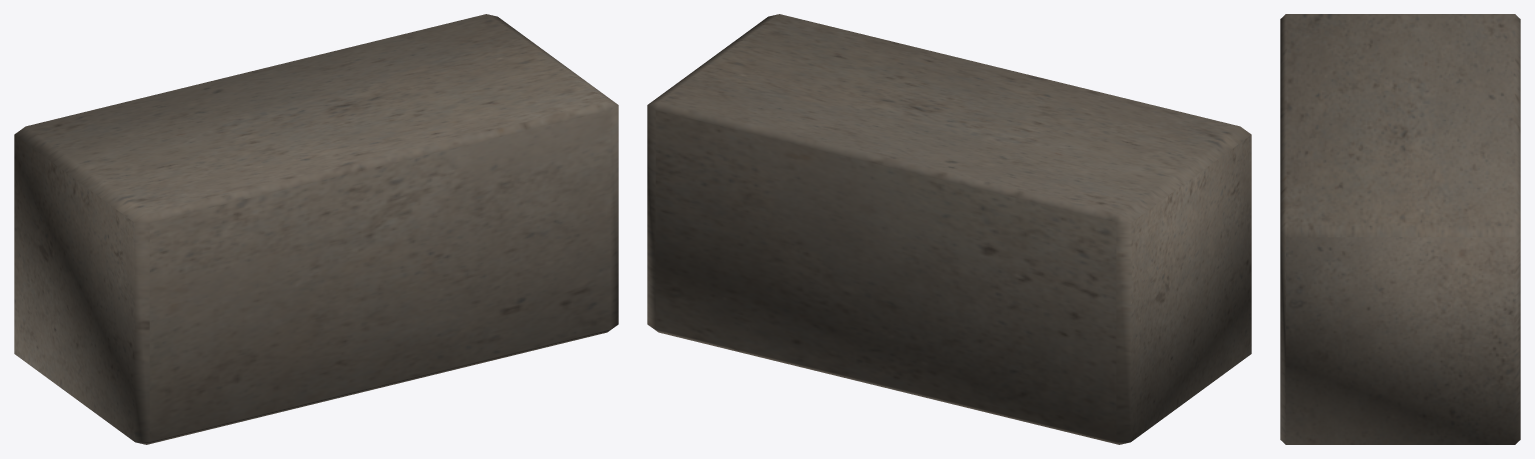
The model's file is Brick.fbx.
The picture shows the model from 3 angles, left to right: view 1: azimuth 30°, elevation 25°; view 2: azimuth 150°, elevation 25°; view 3: azimuth 270°, elevation 25°; orthographic projection. The views are drawn at different scales.
Visible parts, largest first — view 1: Cube; view 2: Cube; view 3: Cube.
Boxes of the visible parts, x1=… form: Cube: x1=14, y1=14, x2=618, y2=444; Cube: x1=647, y1=14, x2=1251, y2=444; Cube: x1=1280, y1=14, x2=1520, y2=444.
Size of the model in its own units: 440 by 200 by 200.
Materials: 1 (1 with a texture image).
